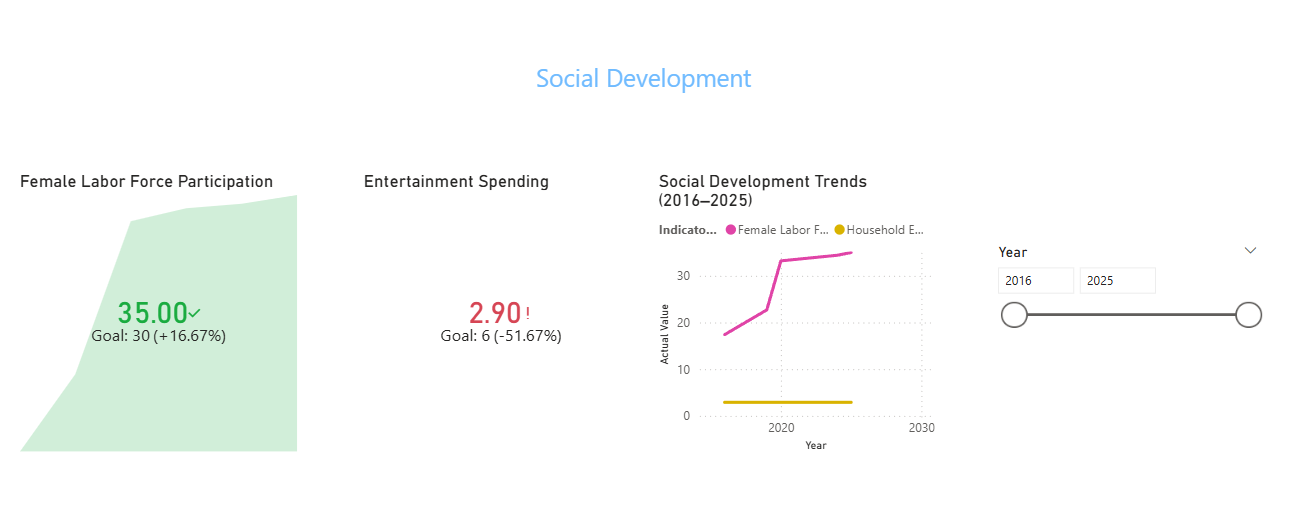

What the dashboard file says about the page in this screenshot:
{"tool":"powerbi","page":{"name":"Social Development","canvas":[1280,720],"ordinal":1},"visuals":[{"type":"kpi","title":"Female Labor Force Participation","fields":{"Indicator":["Facts_National_v2.Actual Value"],"TrendLine":["Facts_National_v2.Year"],"Goal":["Facts_National_v2.Target IND04"]},"box":[14.7,173.6,281.3,280],"z":0},{"type":"kpi","title":"Entertainment Spending","fields":{"Indicator":["Facts_National_v2.Actual Value"],"TrendLine":["Facts_National_v2.Year"],"Goal":["Facts_National_v2.Target IND05"]},"box":[351,173.6,278.8,280],"z":1},{"type":"lineChart","title":"Social Development Trends (2016–2025)","fields":{"Category":["Facts_National_v2.Year"],"Y":["Facts_National_v2.Actual Value"],"Series":["Indicators_v2.IndicatorName"]},"box":[639.5,173.6,280,280],"z":2},{"type":"slicer","fields":{"Values":["Facts_National_v2.Year"]},"box":[963.6,239.7,278.8,150.4],"z":3},{"type":"textbox","box":[354.6,61.1,550.3,52.6],"z":4}]}

Visuals, with their boxes on the page's 1280x720 design canvas (x1, y1, x2, y2). These are canvas units, not pixel positions in the 1300x522 screenshot, which may show the page scaled, cropped or inside an application window:
"Female Labor Force Participation" kpi: [x1=15, y1=174, x2=296, y2=454]
"Entertainment Spending" kpi: [x1=351, y1=174, x2=630, y2=454]
"Social Development Trends (2016–2025)" lineChart: [x1=640, y1=174, x2=920, y2=454]
slicer - Facts_National_v2.Year: [x1=964, y1=240, x2=1242, y2=390]
textbox: [x1=355, y1=61, x2=905, y2=114]
